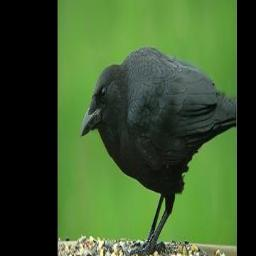Crow: (80, 47, 237, 256)
